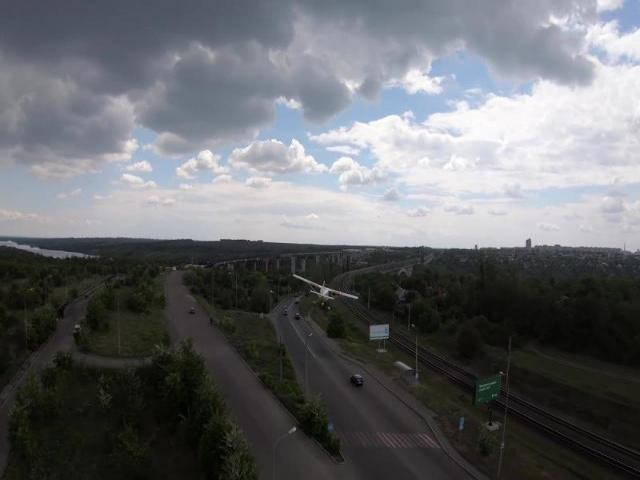hedef: (292, 268, 364, 316)
